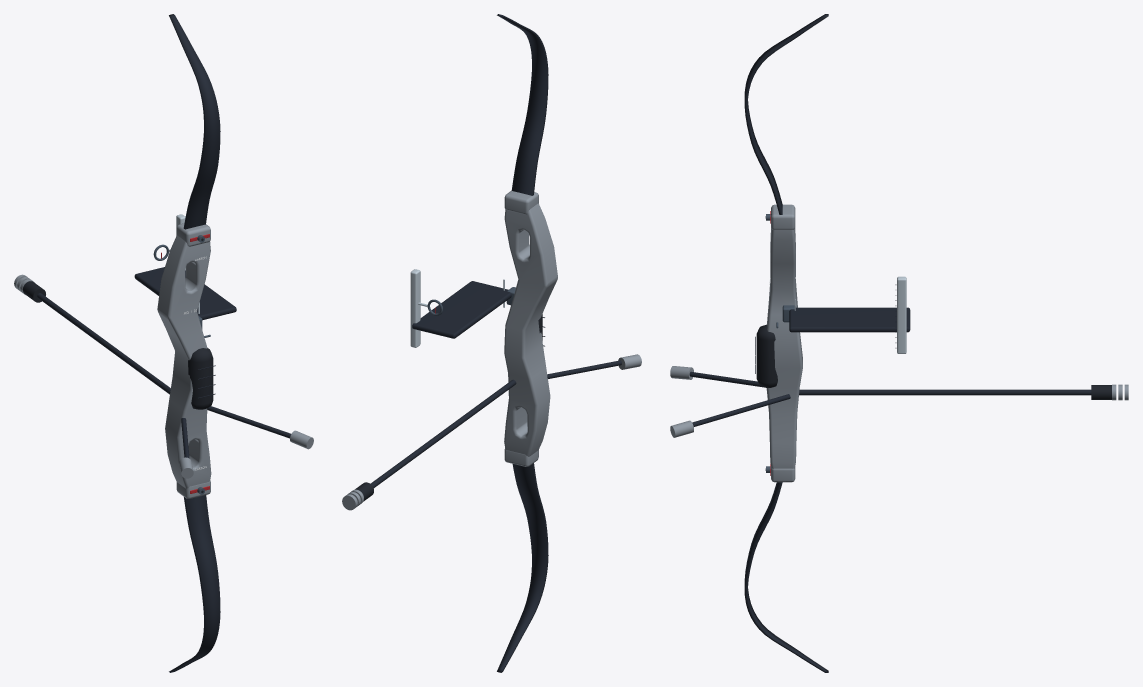
File: precision-recurve.glb
The picture shows the model from 3 angles, left to right: view 1: azimuth 30°, elevation 25°; view 2: azimuth 150°, elevation 25°; view 3: azimuth 270°, elevation 25°; orthographic projection.
Visible parts, largest first — view 1: Precision forged riser, Upper_Limb, Lower_Limb, Contoured rubber grip, Carbon sight extension, Long rod carbon, Titanium limb pocket.001, V bar carbon.001; view 2: Precision forged riser, Upper_Limb, Lower_Limb, Carbon sight extension, Long rod carbon, Sight vertical rail, Titanium limb pocket.001; view 3: Precision forged riser, Carbon sight extension, Long rod carbon, Upper_Limb, Lower_Limb, Contoured rubber grip, Sight vertical rail.
Boxes of the visible parts, left/top/right/bottom form: Precision forged riser: left=157, top=235, right=211, bottom=488; Upper_Limb: left=169, top=14, right=220, bottom=229; Lower_Limb: left=169, top=495, right=220, bottom=672; Contoured rubber grip: left=188, top=348, right=213, bottom=409; Carbon sight extension: left=134, top=267, right=236, bottom=320; Long rod carbon: left=37, top=293, right=170, bottom=394; Titanium limb pocket.001: left=176, top=223, right=210, bottom=246; V bar carbon.001: left=207, top=406, right=291, bottom=438; Precision forged riser: left=504, top=203, right=557, bottom=456; Upper_Limb: left=497, top=14, right=548, bottom=195; Lower_Limb: left=497, top=463, right=548, bottom=672; Carbon sight extension: left=412, top=281, right=511, bottom=338; Long rod carbon: left=370, top=379, right=516, bottom=487; Sight vertical rail: left=410, top=269, right=420, bottom=347; Titanium limb pocket.001: left=504, top=191, right=538, bottom=214; Precision forged riser: left=766, top=227, right=802, bottom=468; Carbon sight extension: left=789, top=307, right=910, bottom=332; Long rod carbon: left=799, top=389, right=1091, bottom=395; Upper_Limb: left=744, top=14, right=828, bottom=214; Lower_Limb: left=744, top=482, right=828, bottom=672; Contoured rubber grip: left=756, top=324, right=777, bottom=387; Sight vertical rail: left=897, top=276, right=906, bottom=353.
Bounding box in the file's own units: 0.3674 × 1.74 × 1.1.
